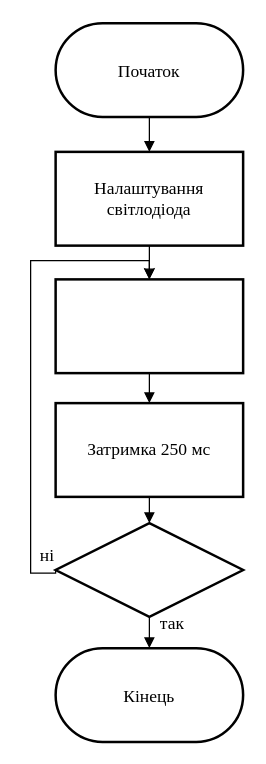
The diagram is 266 pixels wide and 764 high, and some of its shapes have lost their labels. Here are the shapes that lost their labels. From the top down, the centre of each, then its label:
At (149,326): "Перемкнути стан світлодіода".
At (149,569): "Вимкнуто".
